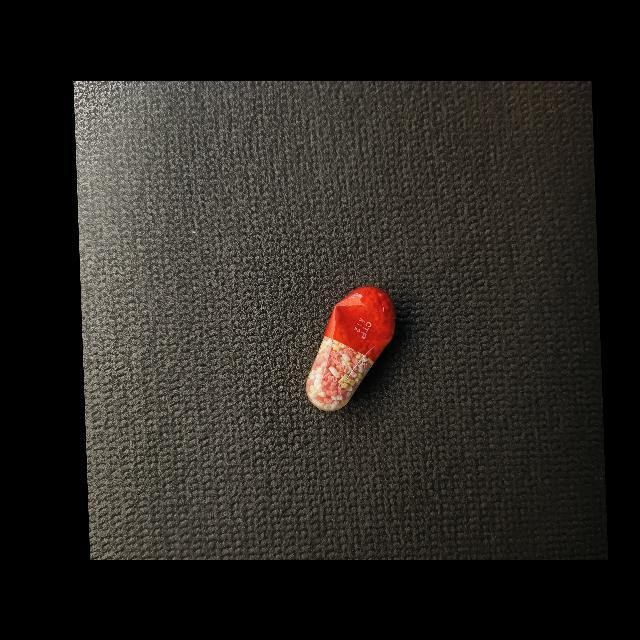Defective Capsule: (306, 286, 396, 411)
